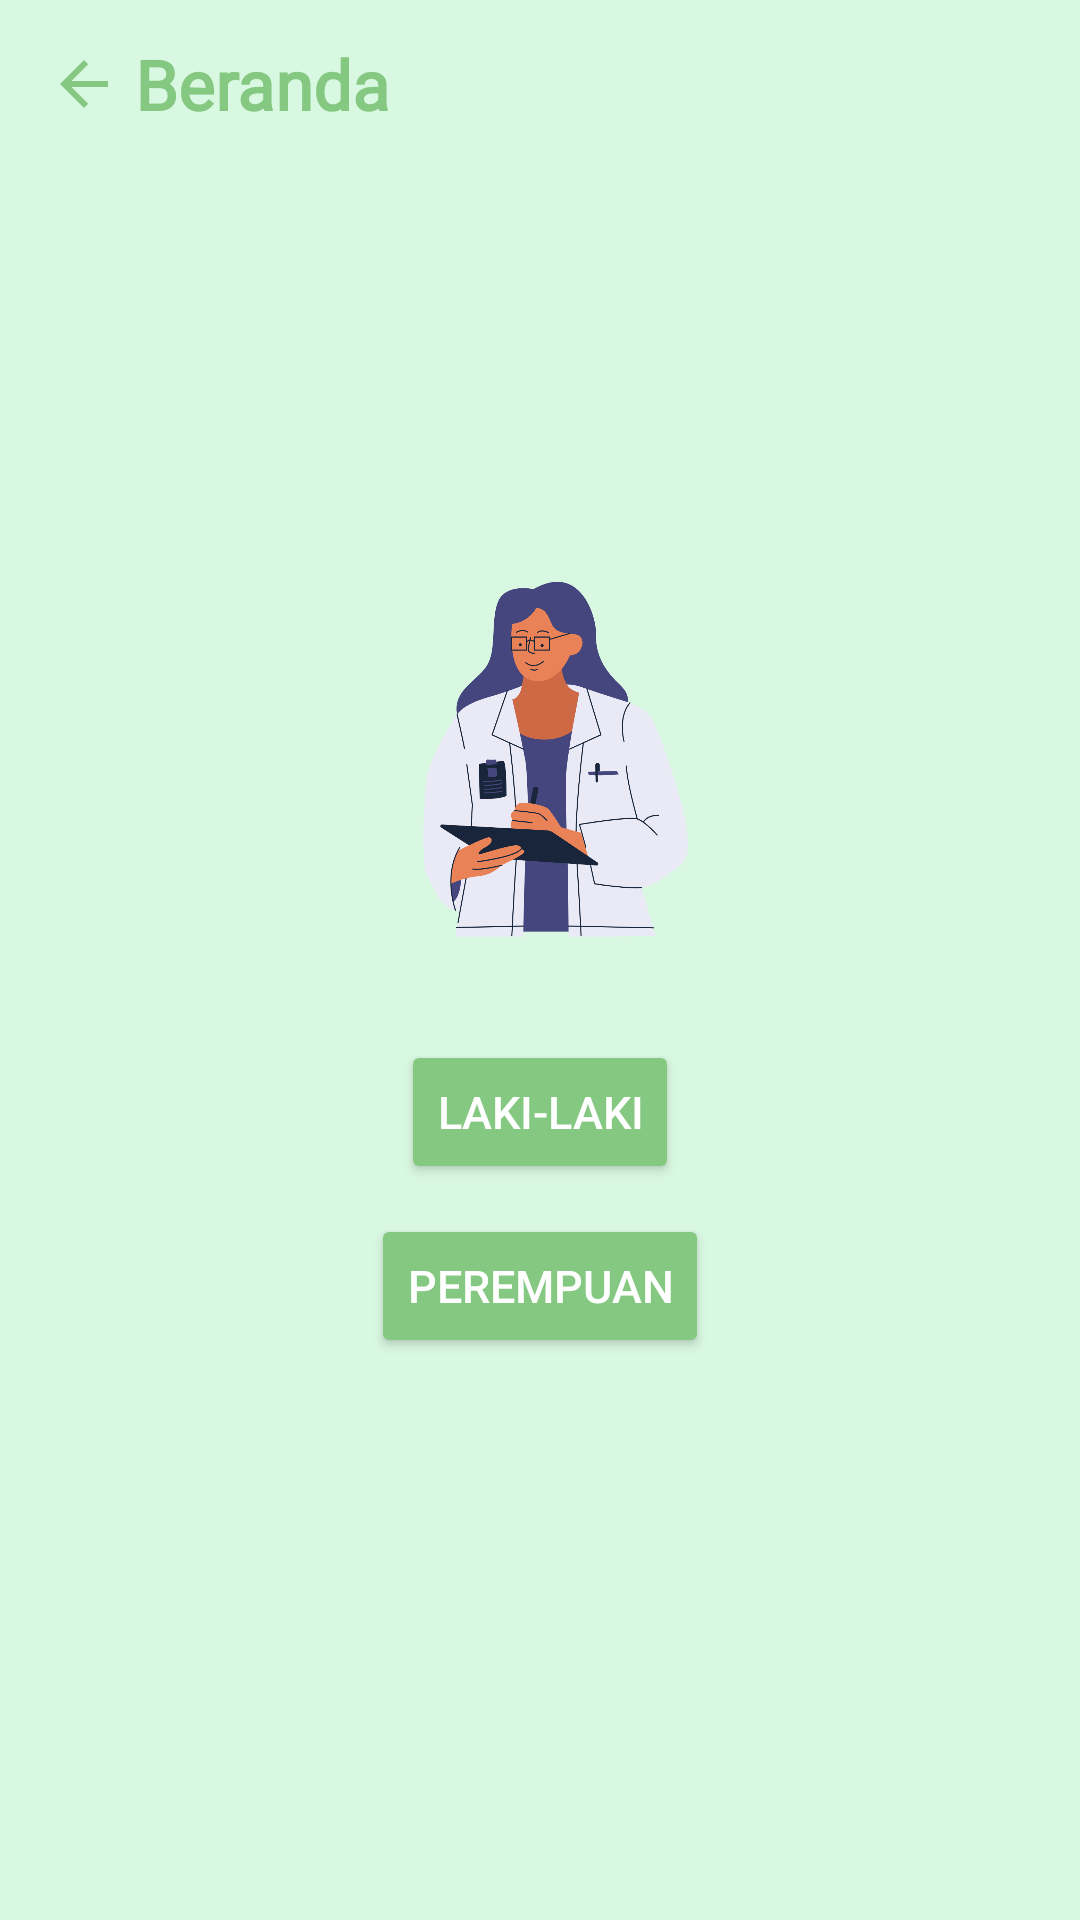

Icon bounding boxes for this 1080x1920 phone screenshot, format (x1, y1, x2, y2):
back: (60, 60, 108, 108)
dokter bertanya ilust: (423, 582, 688, 937)
